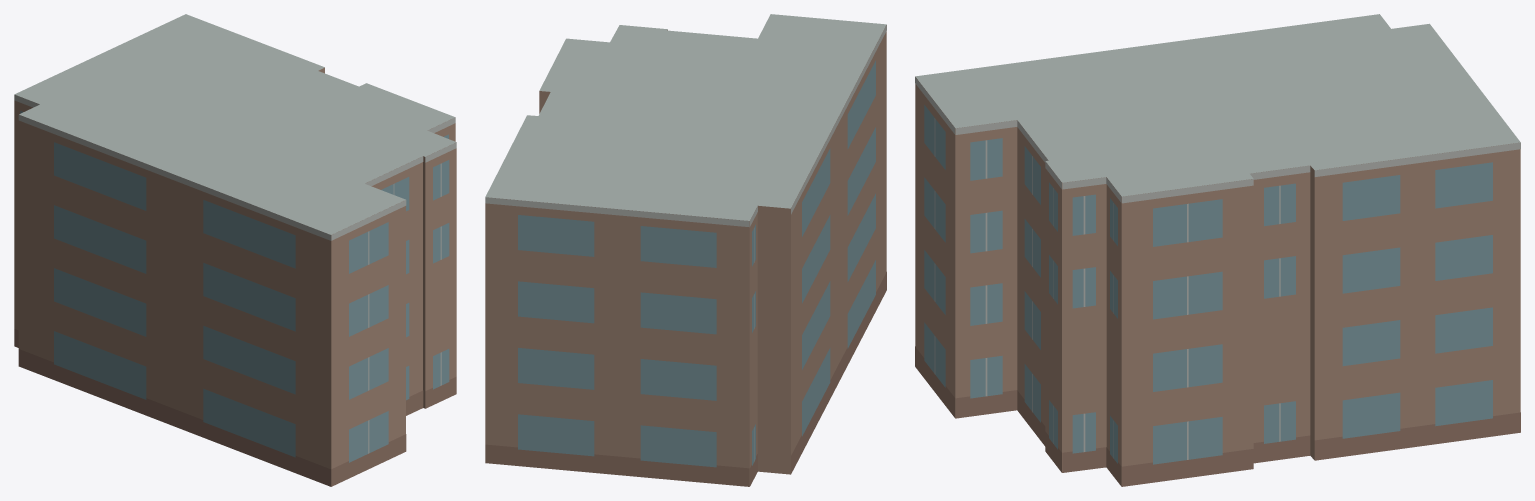
The model's file is survey-upis-32526275.glb.
The picture shows the model from 3 angles, left to right: view 1: azimuth 30°, elevation 25°; view 2: azimuth 150°, elevation 25°; view 3: azimuth 270°, elevation 25°; orthographic projection. The views are drawn at different scales.
Parts seen in each view (by area): view 1: survey-upis-32526275.tmp; view 2: survey-upis-32526275.tmp; view 3: survey-upis-32526275.tmp.
Part boxes in pixels (x1,y1,x2,y2): survey-upis-32526275.tmp: [14, 14, 456, 486]; survey-upis-32526275.tmp: [485, 14, 886, 486]; survey-upis-32526275.tmp: [915, 14, 1520, 486].
Bounding box in the file's own units: 14.05 × 10.4 × 19.68.
